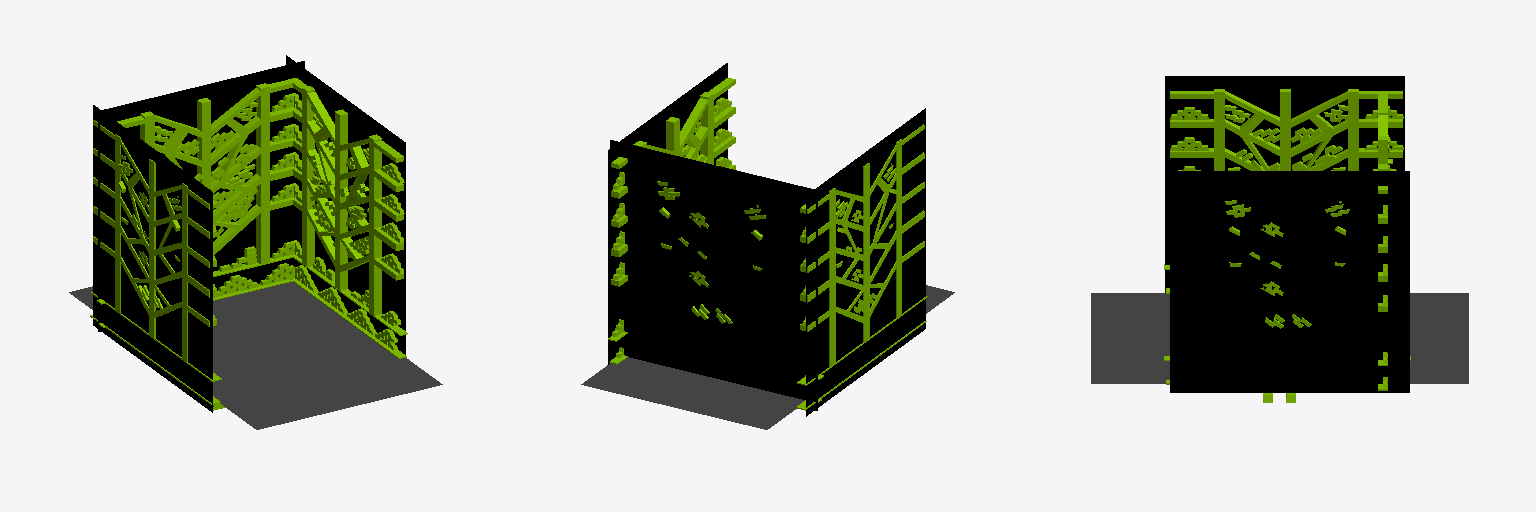
The model's file is goldWarehouse.obj.
3 views of the same model, side by side, from view 1: azimuth 30°, elevation 25°; view 2: azimuth 150°, elevation 25°; view 3: azimuth 270°, elevation 25° (orthographic).
Visible parts, largest first — view 1: Plane, Plane.446_Plane.452, Plane.051_Plane.057, Plane.042_Plane.048, Plane.640_Plane.646, Plane.643_Plane.649, Plane.642_Plane.648, Plane.046_Plane.052, Plane.048_Plane.054, Plane.044_Plane.050, Plane.049_Plane.055, Plane.050_Plane.056; view 2: Plane.051_Plane.057, Plane.446_Plane.452, Plane, Plane.046_Plane.052, Plane.643_Plane.649, Plane.048_Plane.054, Plane.640_Plane.646, Plane.642_Plane.648; view 3: Plane.643_Plane.649, Plane, Plane.446_Plane.452, Plane.046_Plane.052, Plane.048_Plane.054, Plane.042_Plane.048.
Part boxes in pixels (bbox=[...]): Plane: bbox=[69, 282, 442, 429]; Plane.446_Plane.452: bbox=[93, 105, 212, 412]; Plane.051_Plane.057: bbox=[98, 61, 304, 331]; Plane.042_Plane.048: bbox=[197, 78, 300, 264]; Plane.640_Plane.646: bbox=[335, 109, 403, 315]; Plane.643_Plane.649: bbox=[286, 55, 405, 354]; Plane.642_Plane.648: bbox=[288, 78, 334, 266]; Plane.046_Plane.052: bbox=[93, 120, 155, 338]; Plane.048_Plane.054: bbox=[153, 183, 216, 361]; Plane.044_Plane.050: bbox=[117, 111, 201, 169]; Plane.049_Plane.055: bbox=[291, 278, 406, 358]; Plane.050_Plane.056: bbox=[291, 254, 407, 335]; Plane.051_Plane.057: bbox=[610, 140, 817, 410]; Plane.446_Plane.452: bbox=[806, 108, 925, 416]; Plane: bbox=[581, 285, 954, 429]; Plane.046_Plane.052: bbox=[800, 163, 869, 367]; Plane.643_Plane.649: bbox=[608, 63, 727, 364]; Plane.048_Plane.054: bbox=[868, 124, 924, 320]; Plane.640_Plane.646: bbox=[666, 78, 735, 169]; Plane.642_Plane.648: bbox=[611, 141, 673, 286]; Plane.643_Plane.649: bbox=[1170, 171, 1409, 392]; Plane: bbox=[1091, 293, 1468, 383]; Plane.446_Plane.452: bbox=[1165, 76, 1404, 292]; Plane.046_Plane.052: bbox=[1280, 89, 1402, 170]; Plane.048_Plane.054: bbox=[1170, 89, 1279, 170]; Plane.042_Plane.048: bbox=[1378, 136, 1387, 311].
Size of the model in its own units: 52.67 by 61.89 by 80.89.